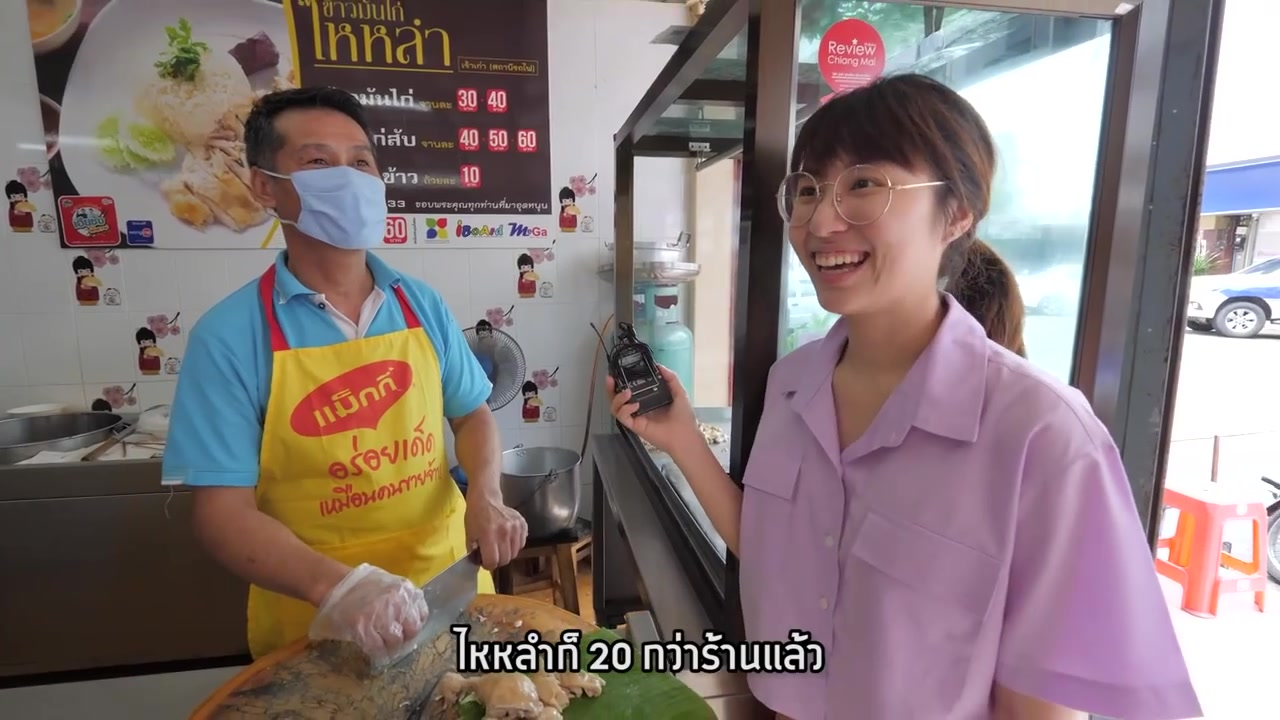text-label: (447, 618, 829, 678)
